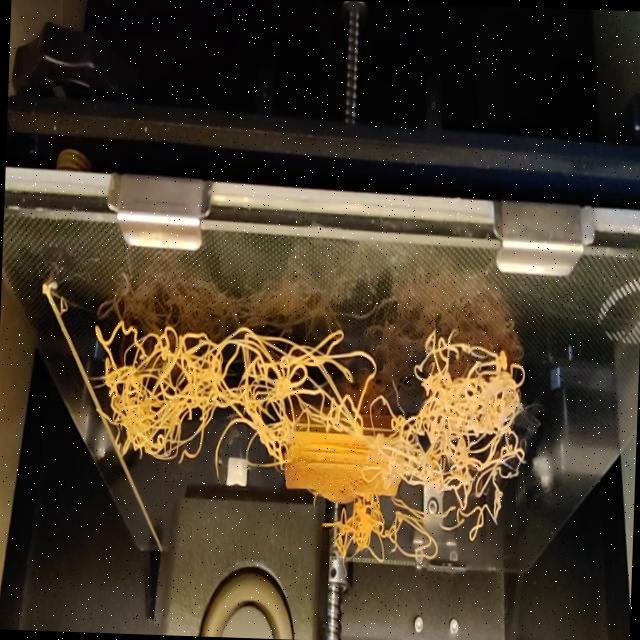spaghetti: (89, 308, 532, 493), (324, 484, 502, 576)
